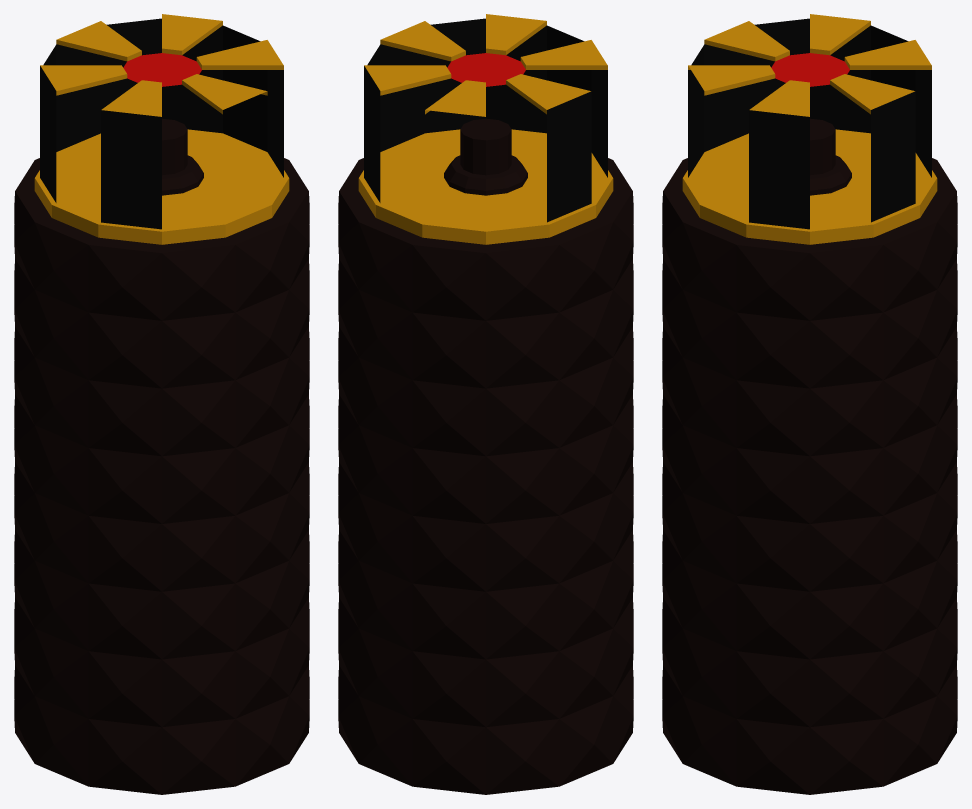
The model's file is perfume4.gltf.
3 views of the same model, side by side, from view 1: azimuth 30°, elevation 25°; view 2: azimuth 150°, elevation 25°; view 3: azimuth 270°, elevation 25° (orthographic).
Visible parts, largest first — view 1: Cylinder; view 2: Cylinder; view 3: Cylinder.
Part boxes in pixels (x1,y1,x2,y2): Cylinder: (14, 14, 309, 794); Cylinder: (338, 14, 633, 794); Cylinder: (662, 14, 957, 794).
Size of the model in its own units: 1.48 by 3.7 by 1.48.
